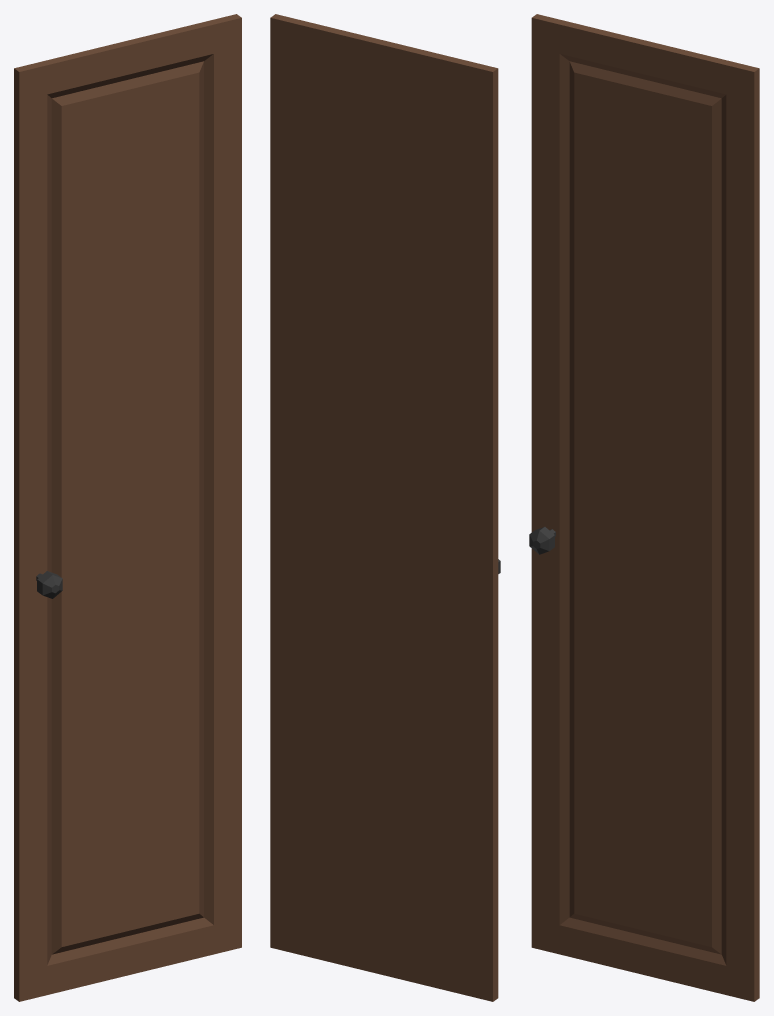
The model's file is Wardrobe7_C3_06.fbx.
3 renders of one model, left to right at view 1: azimuth 30°, elevation 25°; view 2: azimuth 150°, elevation 25°; view 3: azimuth 330°, elevation 25°, orthographic.
Visible parts, largest first — view 1: Wardrobe7_C3_06; view 2: Wardrobe7_C3_06; view 3: Wardrobe7_C3_06.
Boxes of the visible parts, bbox=[...] form: Wardrobe7_C3_06: bbox=[14, 14, 241, 1001]; Wardrobe7_C3_06: bbox=[270, 14, 500, 1001]; Wardrobe7_C3_06: bbox=[529, 14, 759, 1001].
Size of the model in its own units: 50 by 200 by 8.1.
